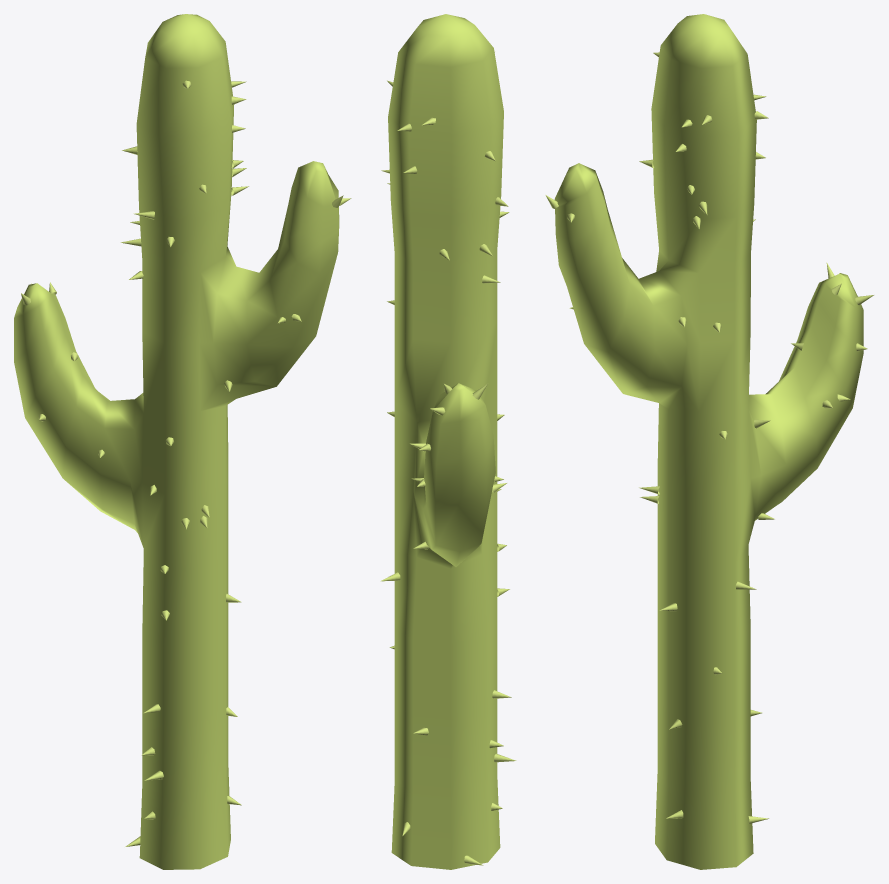
Rendered from CACTU2.fbx.
3 renders of one model, left to right at view 1: azimuth 30°, elevation 25°; view 2: azimuth 150°, elevation 25°; view 3: azimuth 270°, elevation 25°, orthographic.
Visible parts, largest first — view 1: cACTU2; view 2: cACTU2; view 3: cACTU2.
Part boxes in pixels (x1,y1,x2,y2): cACTU2: [14, 14, 351, 869]; cACTU2: [380, 14, 516, 869]; cACTU2: [545, 14, 873, 869].
Bounding box in the file's own units: 0.5179 × 2.01 × 0.7204.
